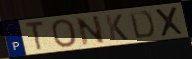D: (128, 10, 156, 40)
K: (104, 13, 130, 42)
N: (75, 14, 107, 47)
O: (50, 18, 79, 49)
T: (24, 19, 46, 53)
X: (153, 6, 186, 38)
